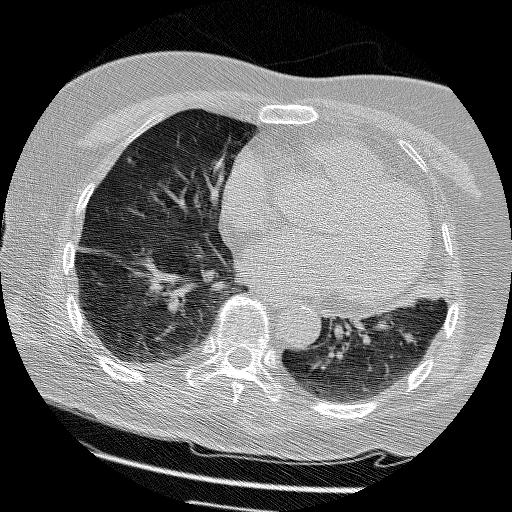nodule: (403, 332, 415, 344)
